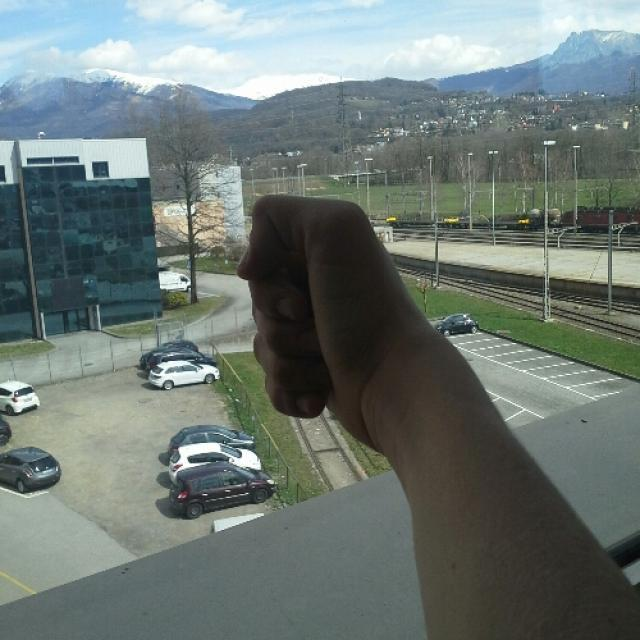rock: (241, 189, 381, 452)
